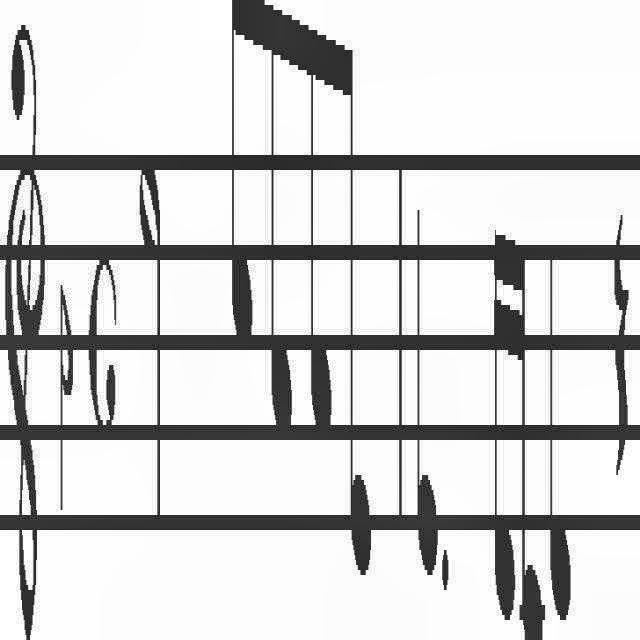Bass-clef: (5, 5, 47, 640)
Bemol: (58, 278, 74, 522)
Eighth-note: (338, 16, 370, 580), (300, 4, 332, 440), (263, 0, 292, 444), (230, 0, 253, 360)
Half-note: (138, 154, 162, 544)
Quarter-note: (548, 230, 574, 620), (416, 200, 440, 580)
Quarter-rest: (612, 207, 632, 478)
Sixteenth-note: (516, 220, 546, 640), (494, 218, 516, 628)
